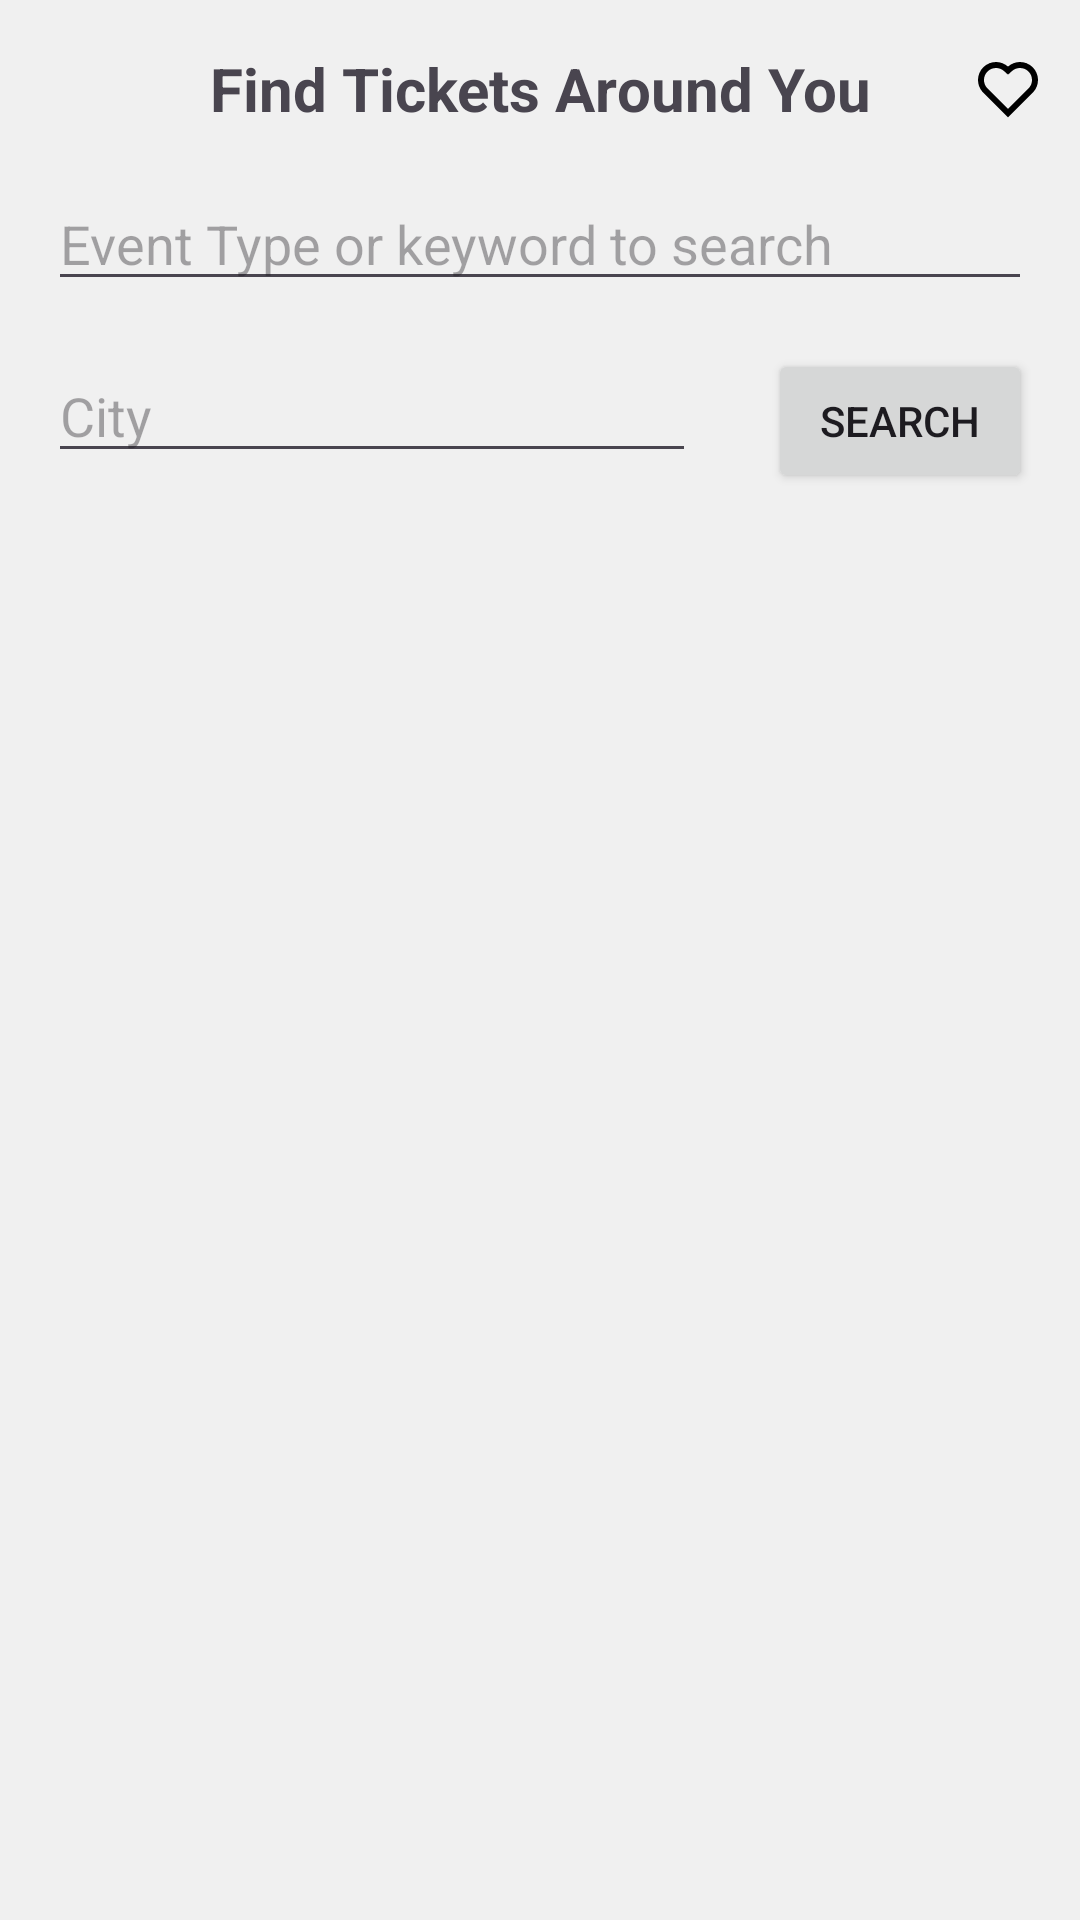

Named icons in this screenshot (1080 × 1920) and their bounding boxes, (x1, y1, x2, y2):
heart line: (978, 62, 1038, 117)
